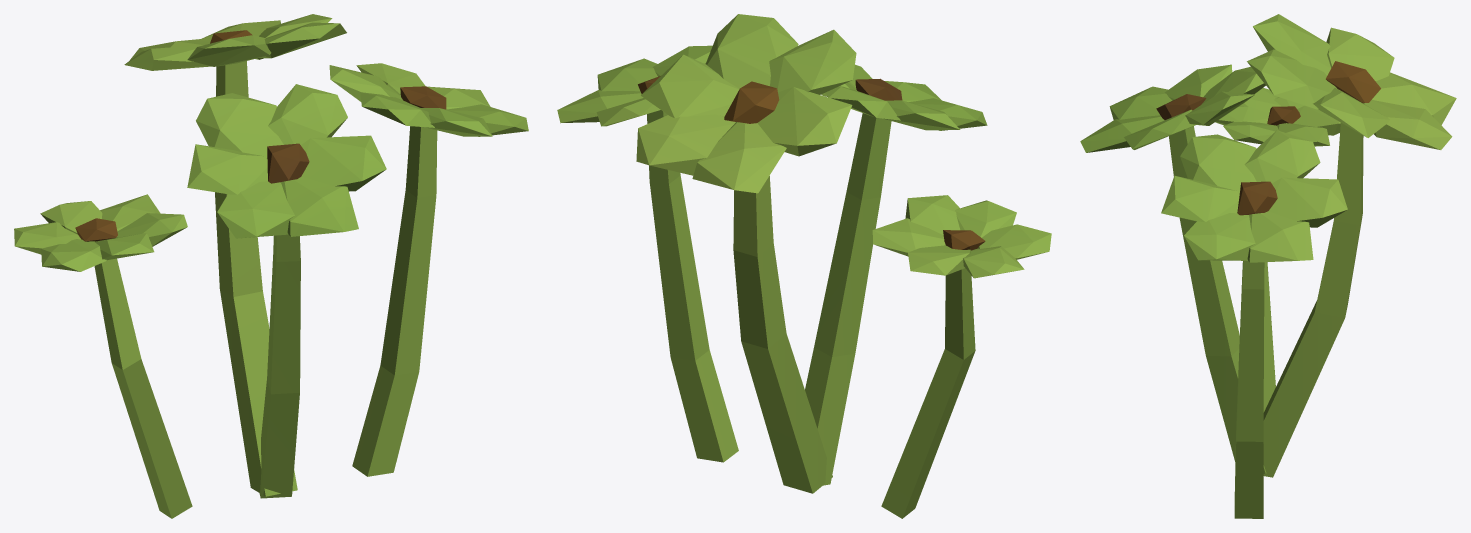
File: Flower_07.fbx
3 renders of one model, left to right at view 1: azimuth 30°, elevation 25°; view 2: azimuth 150°, elevation 25°; view 3: azimuth 270°, elevation 25°, orthographic. The views are drawn at different scales.
Parts seen in each view (by area): view 1: Flower_07; view 2: Flower_07; view 3: Flower_07.
Part boxes in pixels (x1,y1,x2,y2): Flower_07: [14, 14, 528, 518]; Flower_07: [557, 14, 1051, 518]; Flower_07: [1080, 14, 1456, 518].
Size of the model in its own units: 0.8432 by 0.7851 by 0.6163.
